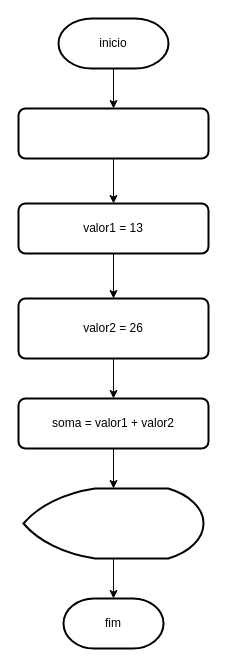
Some shapes in this 226 by 666 pixel diagram are drawn without their labels. The centre of each missing label's shape, as x and y in pixels:
"A soma dos número é ", soma: (113,523)
inteiro valor1, valor2, soma: (113,133)
